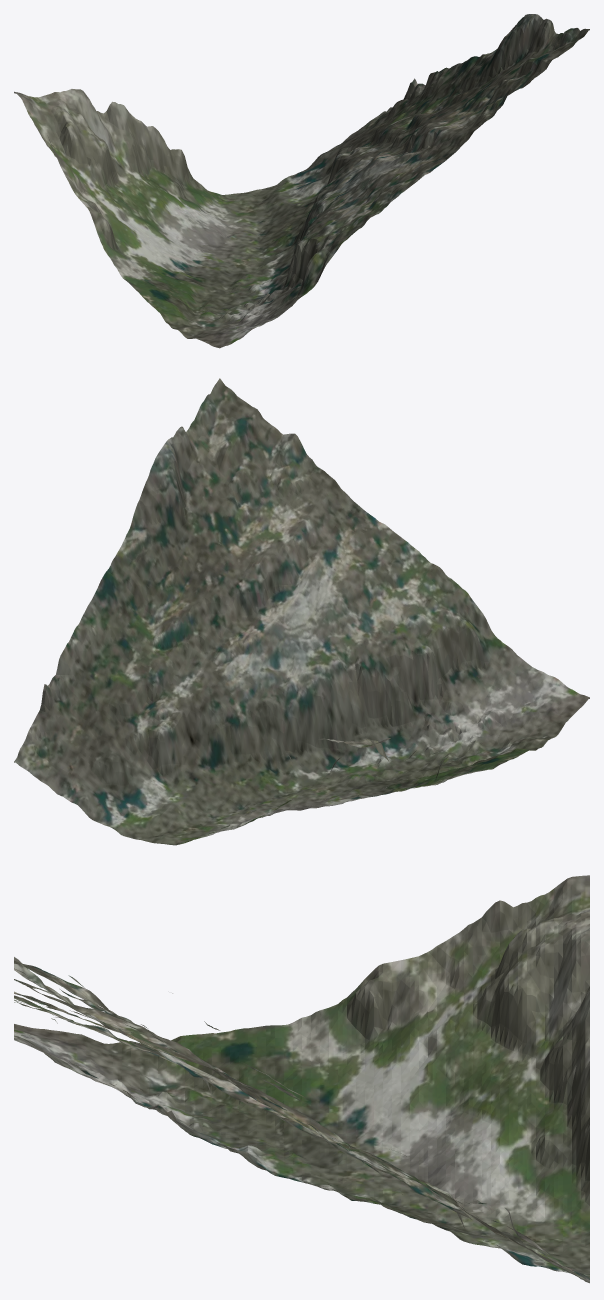
3 renders of one model, top to bottom at view 1: azimuth 30°, elevation 25°; view 2: azimuth 150°, elevation 25°; view 3: azimuth 270°, elevation 25°, orthographic. The views are drawn at different scales.
Size of the model in its own units: 250 by 182 by 241.
1 material, 1 textured.
